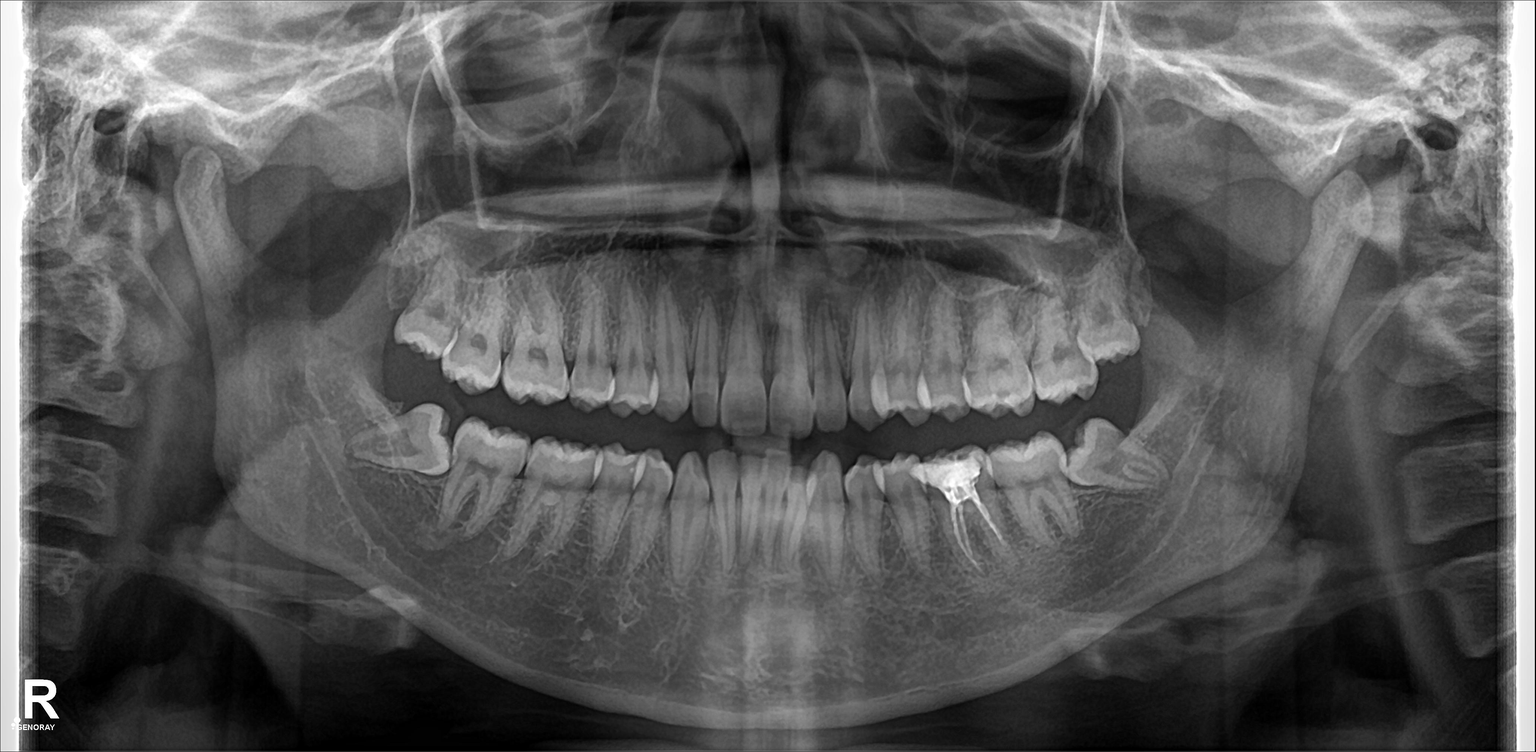Endodontically Treated Tooth: (929, 456, 998, 578)
Impacted Third Molar: (358, 409, 451, 481), (1080, 419, 1153, 487)
